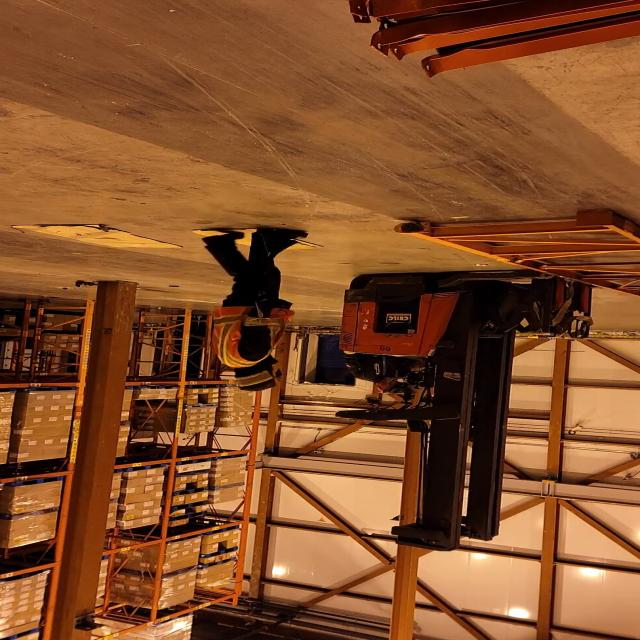forklift: (334, 263, 597, 544)
human: (190, 220, 312, 394), (329, 347, 434, 404)
objectofinterest: (390, 210, 640, 310), (9, 221, 186, 253), (186, 227, 328, 252)
